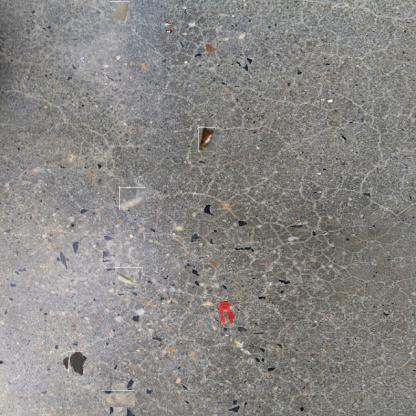dirty: (106, 386, 131, 411), (119, 187, 146, 210), (118, 265, 141, 289), (110, 1, 130, 24), (198, 127, 215, 152), (160, 18, 174, 44)
liquid: (218, 302, 236, 330), (65, 353, 86, 374)
